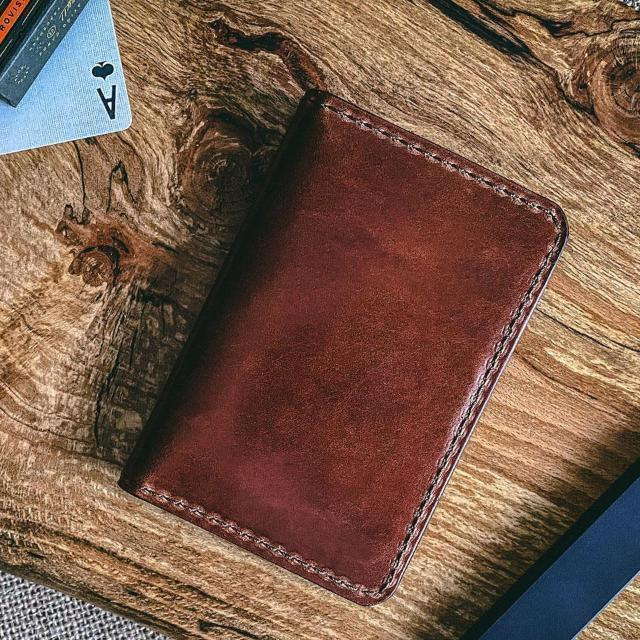wallet: (116, 83, 574, 609)
